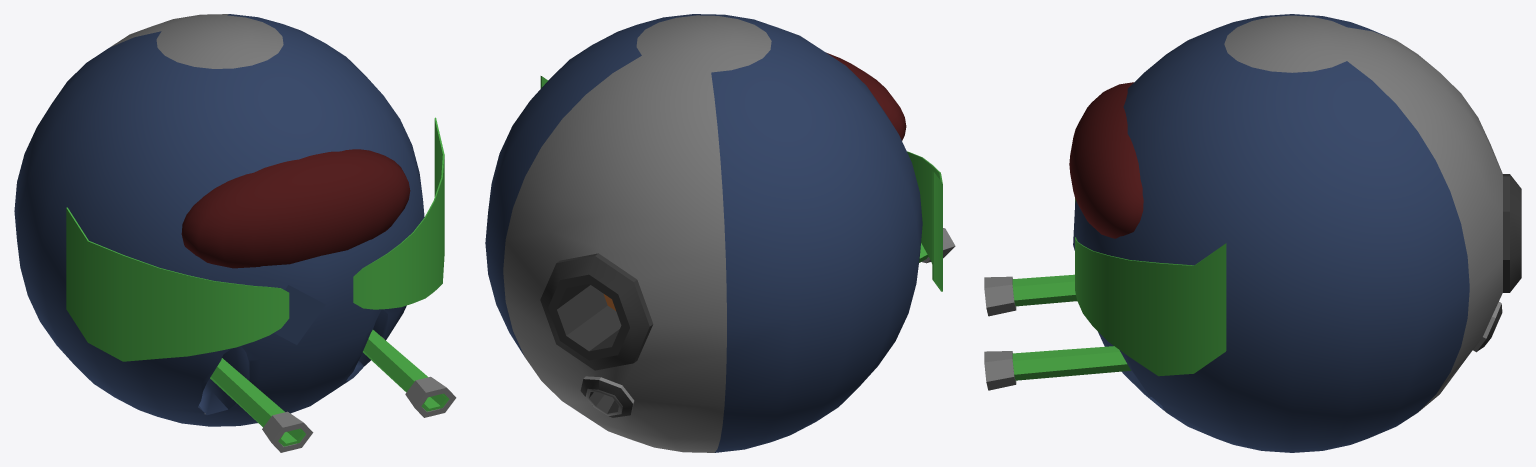
Rendered from sentry.fbx.
3 views of the same model, side by side, from view 1: azimuth 30°, elevation 25°; view 2: azimuth 150°, elevation 25°; view 3: azimuth 270°, elevation 25° (orthographic). The views are drawn at different scales.
Visible parts, largest first — view 1: pSphere3, pSphere4, pCube3, pCube4, polySurface8, polySurface6, polySurface9, polySurface7; view 2: pSphere3, pCube3, pSphere4; view 3: pSphere3, pCube4, pSphere4, polySurface6, polySurface8, polySurface9, polySurface7.
Boxes of the visible parts, x1,y1,x2,y2 form: pSphere3: (14, 14, 424, 426); pSphere4: (181, 149, 410, 268); pCube3: (66, 207, 289, 361); pCube4: (353, 117, 444, 309); polySurface8: (210, 358, 305, 446); polySurface6: (363, 330, 449, 411); polySurface9: (262, 411, 313, 452); polySurface7: (405, 376, 456, 417); pSphere3: (485, 14, 922, 452); pCube3: (907, 151, 942, 291); pSphere4: (826, 52, 906, 140); pSphere3: (1073, 14, 1521, 452); pCube4: (1075, 237, 1226, 376); pSphere4: (1069, 82, 1143, 238); polySurface6: (1012, 346, 1130, 380); polySurface8: (1012, 274, 1077, 306); polySurface9: (984, 276, 1016, 316); polySurface7: (984, 351, 1016, 390).
Size of the model in its own units: 15.49 by 15 by 18.36.
